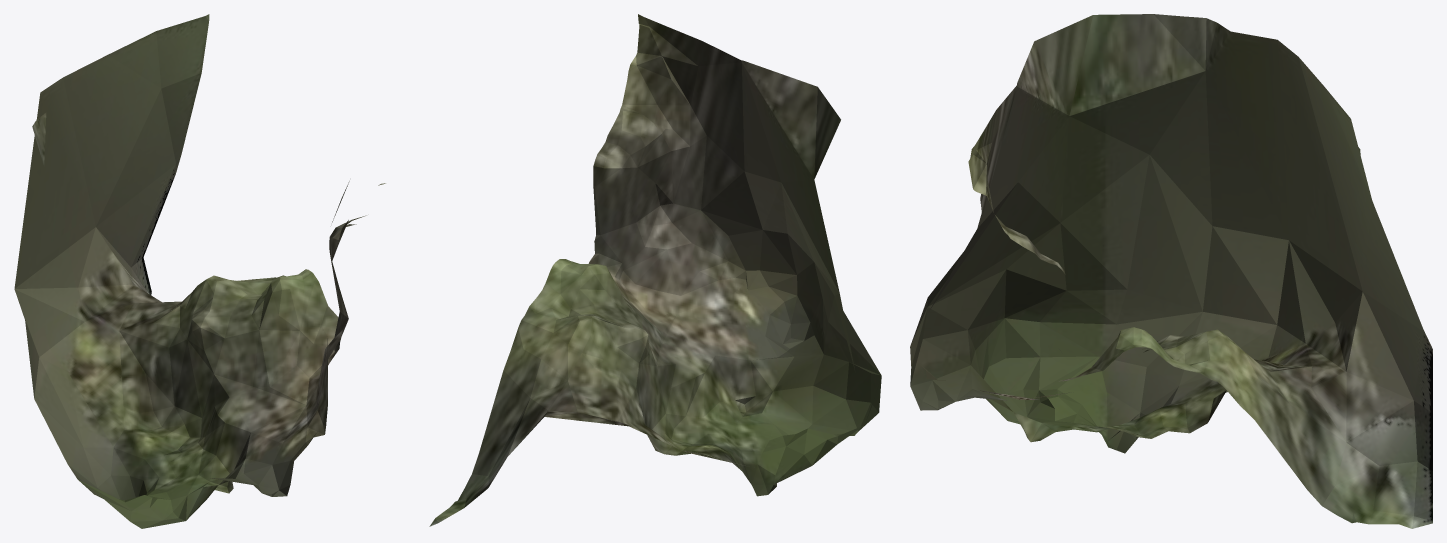
3 renders of one model, left to right at view 1: azimuth 30°, elevation 25°; view 2: azimuth 150°, elevation 25°; view 3: azimuth 270°, elevation 25°, orthographic. The views are drawn at different scales.
Size of the model in its own units: 2.93 by 3.97 by 4.67.
Materials: 3 (3 with a texture image).
